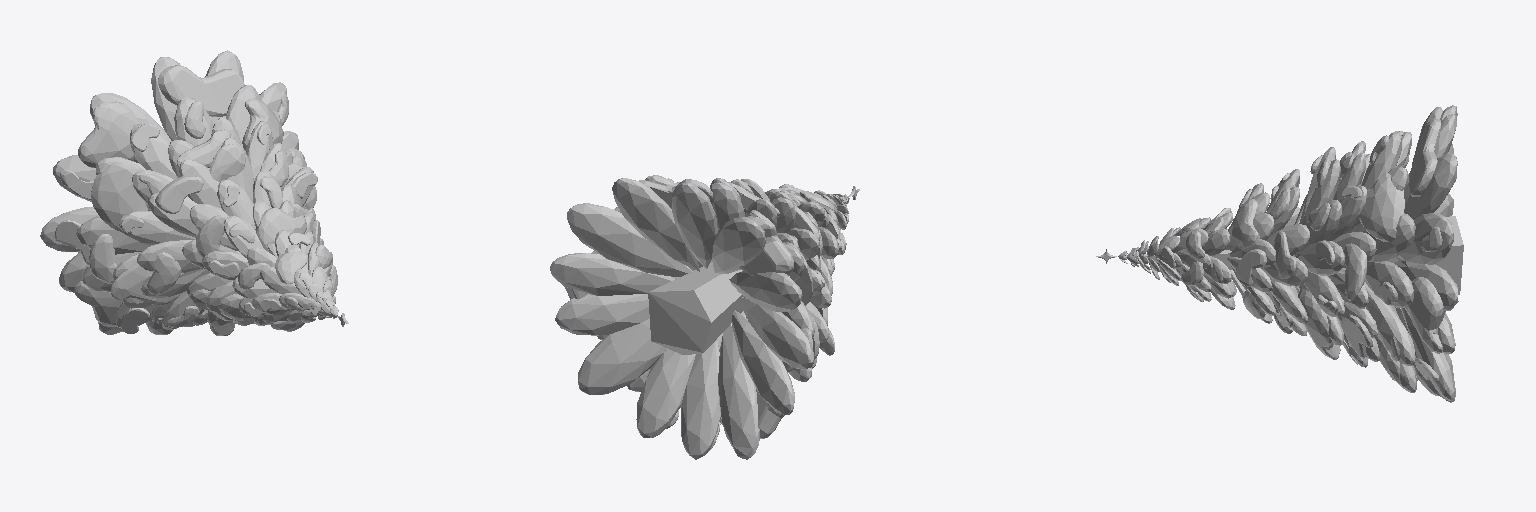
Rendered from BrookeTreeActualFinallol.obj.
3 views of the same model, side by side, from view 1: azimuth 30°, elevation 25°; view 2: azimuth 150°, elevation 25°; view 3: azimuth 270°, elevation 25° (orthographic).
Visible parts, largest first — view 1: Body_02_(9), Body_02_(12), Body_02_(26), Body_20_(1), Snow_1_(1)_(18), Snow_1_(1)_(17), Body_02_(40), Body_02_(50), Body_02_(52), Snow_1_(1)_(7), Snow_1_(1)_(14), Snow_2_(1)_(8) (+12 smaller); view 2: Body_02_(12), Body_02, Body_02_(9), Snow_1_(1)_(18), Body_02_(40), Snow_1_(1)_(19), Body_20_(1); view 3: Body_02_(9), Body_02_(12), Body_02_(26), Body_02_(40), Snow_1_(1)_(9), Body_16, Body_02_(52), Body_20_(1), Snow_1_(1)_(3), Body_02, Body_02_(50), Snow_3_(1)_(21) (+5 smaller).
Boxes of the visible parts, x1,y1,x2,y2 form: Body_02_(9): [76, 85, 313, 335]; Body_02_(12): [40, 50, 298, 334]; Body_02_(26): [182, 169, 307, 326]; Body_20_(1): [158, 65, 244, 116]; Snow_1_(1)_(18): [78, 101, 139, 167]; Snow_1_(1)_(17): [91, 162, 147, 232]; Body_02_(40): [202, 200, 323, 312]; Body_02_(50): [252, 242, 332, 324]; Body_02_(52): [232, 230, 315, 325]; Snow_1_(1)_(7): [255, 208, 306, 252]; Snow_1_(1)_(14): [111, 263, 181, 304]; Snow_2_(1)_(8): [155, 175, 203, 213]; Body_02_(12): [550, 178, 814, 459]; Body_02: [648, 198, 846, 354]; Body_02_(9): [592, 175, 831, 424]; Snow_1_(1)_(18): [739, 217, 793, 275]; Body_02_(40): [768, 191, 838, 295]; Snow_1_(1)_(19): [756, 389, 782, 438]; Body_20_(1): [639, 179, 712, 208]; Body_02_(9): [1294, 131, 1417, 392]; Body_02_(12): [1394, 105, 1458, 402]; Body_02_(26): [1262, 169, 1309, 335]; Body_02_(40): [1225, 183, 1275, 323]; Snow_1_(1)_(9): [1359, 173, 1404, 241]; Body_16: [1407, 277, 1445, 353]; Body_02_(52): [1202, 208, 1236, 309]; Body_20_(1): [1409, 119, 1440, 196]; Snow_1_(1)_(3): [1298, 289, 1340, 359]; Body_02: [1125, 216, 1463, 294]; Body_02_(50): [1172, 217, 1211, 301]; Snow_3_(1)_(21): [1344, 243, 1366, 300].
Bounding box in the file's own units: 0.2641 × 0.2663 × 0.3227.